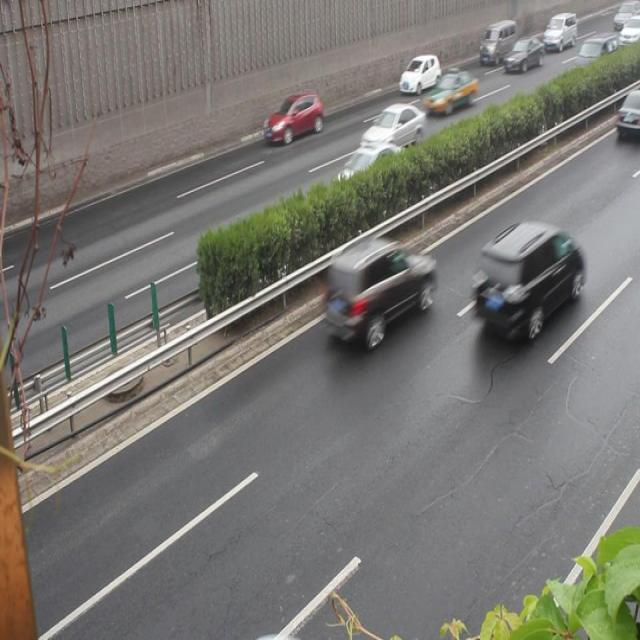car: (327, 235, 438, 347), (477, 223, 583, 339), (333, 144, 412, 213), (361, 104, 426, 154), (264, 94, 324, 147), (423, 71, 478, 119), (397, 53, 440, 96), (504, 38, 543, 76)
